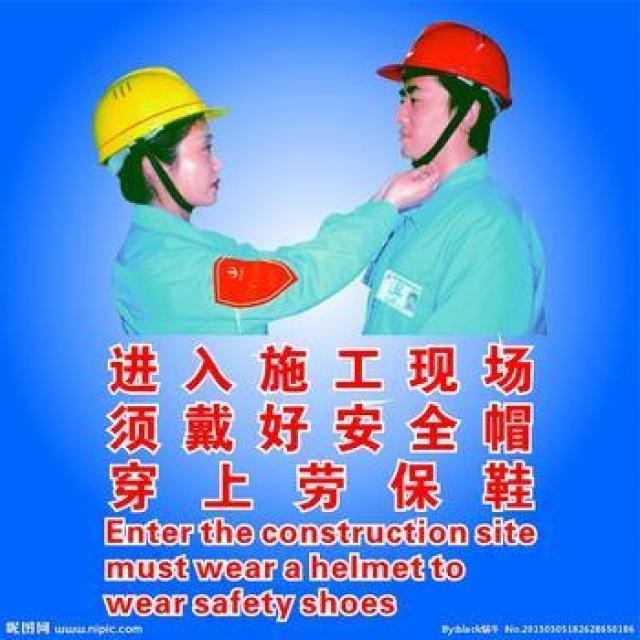helmet: (371, 22, 523, 222), (86, 86, 234, 286)
